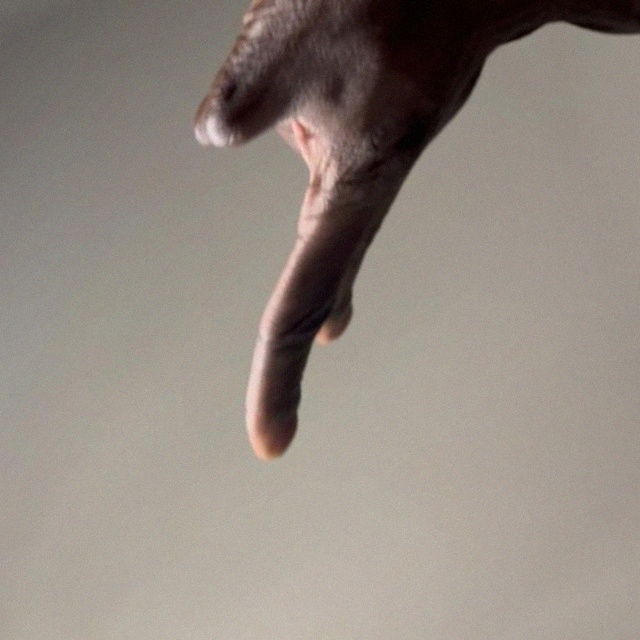Scissors: (433, 0, 640, 297)
